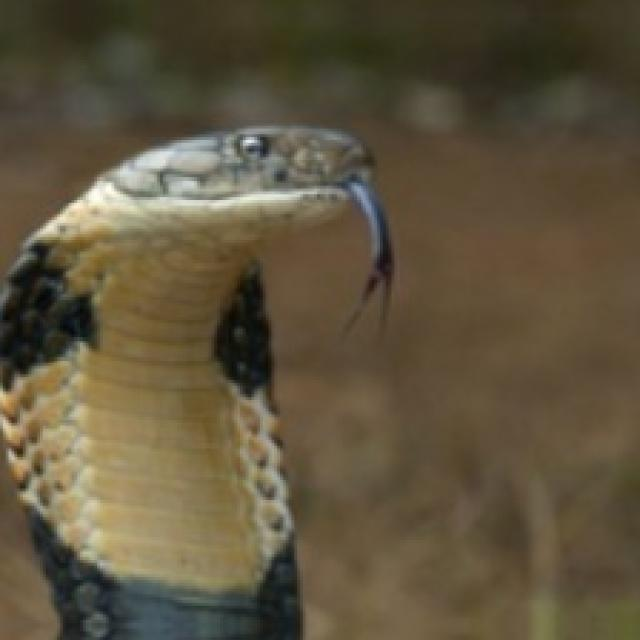king cobra: (0, 126, 389, 637)
